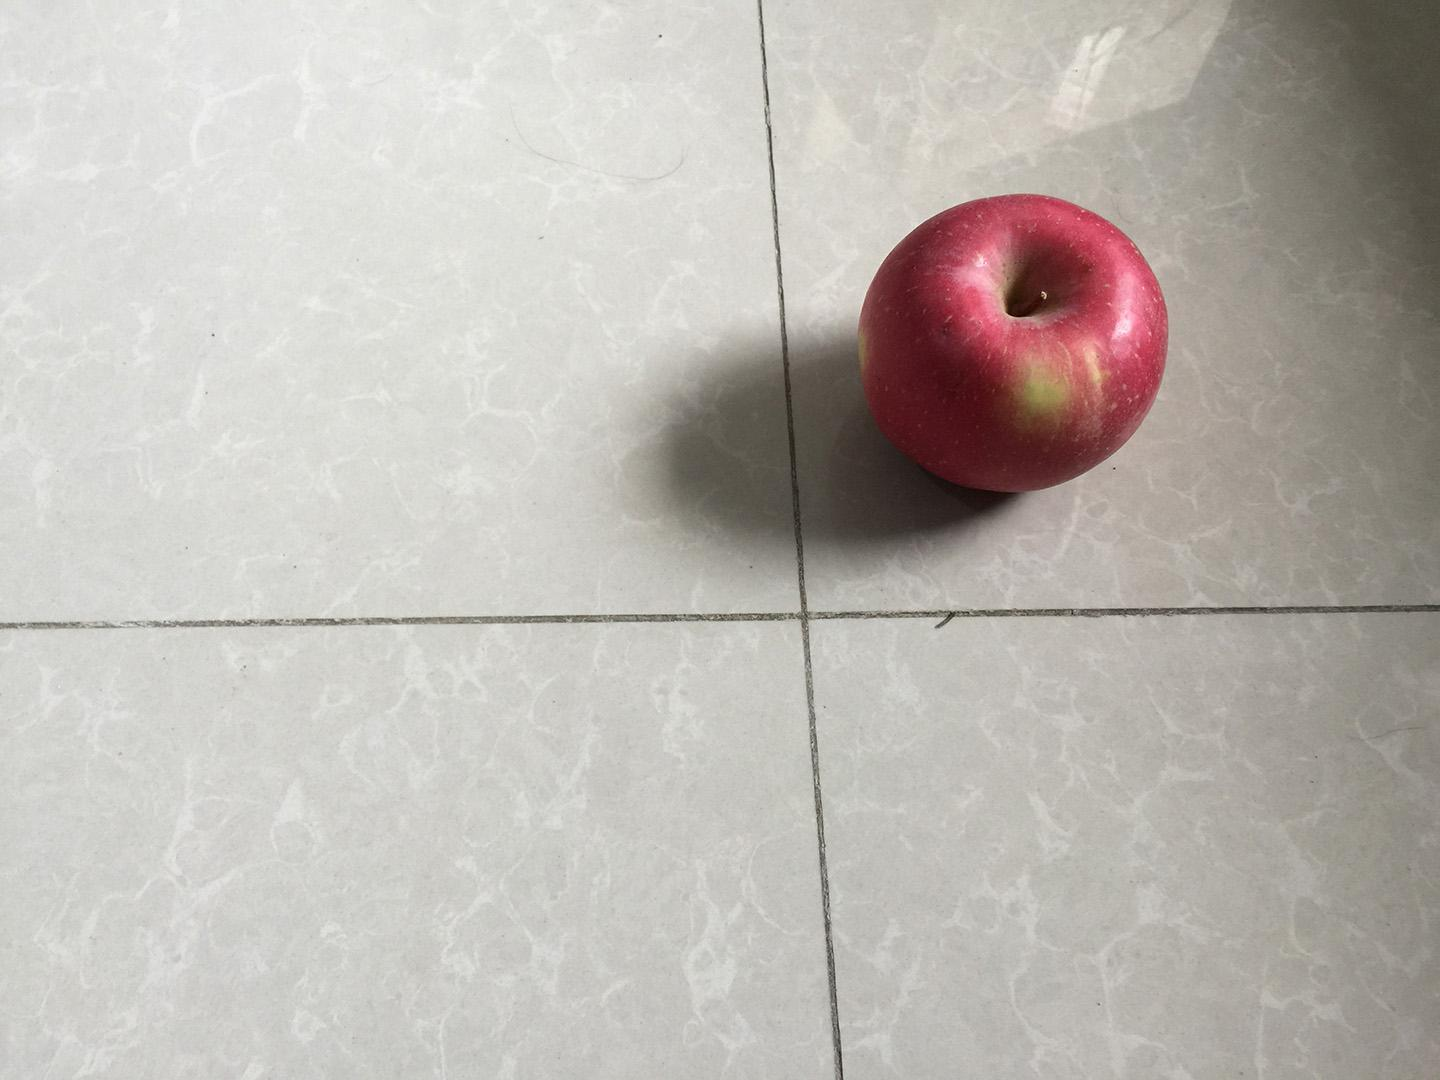apple: (849, 187, 1176, 501)
